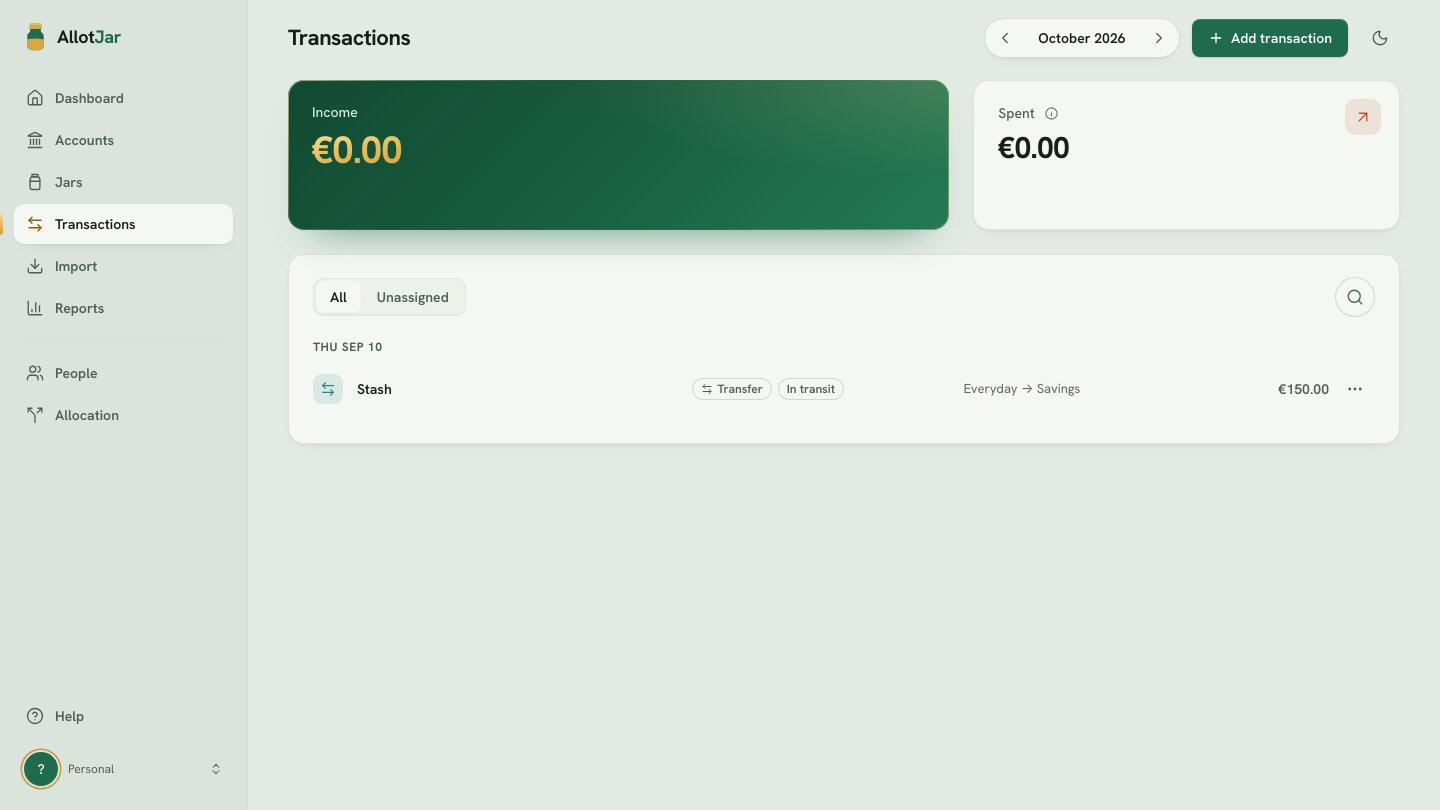
Test: TransactionsPage jar prompts › asks how a confirmed receipt into a jar-backed account is divided and posts jarAllocations
This screenshot has width=1440, height=810.
Click the button named "Stash: more actions". click: (1355, 389)
box: left=1335, top=369, right=1375, bottom=409
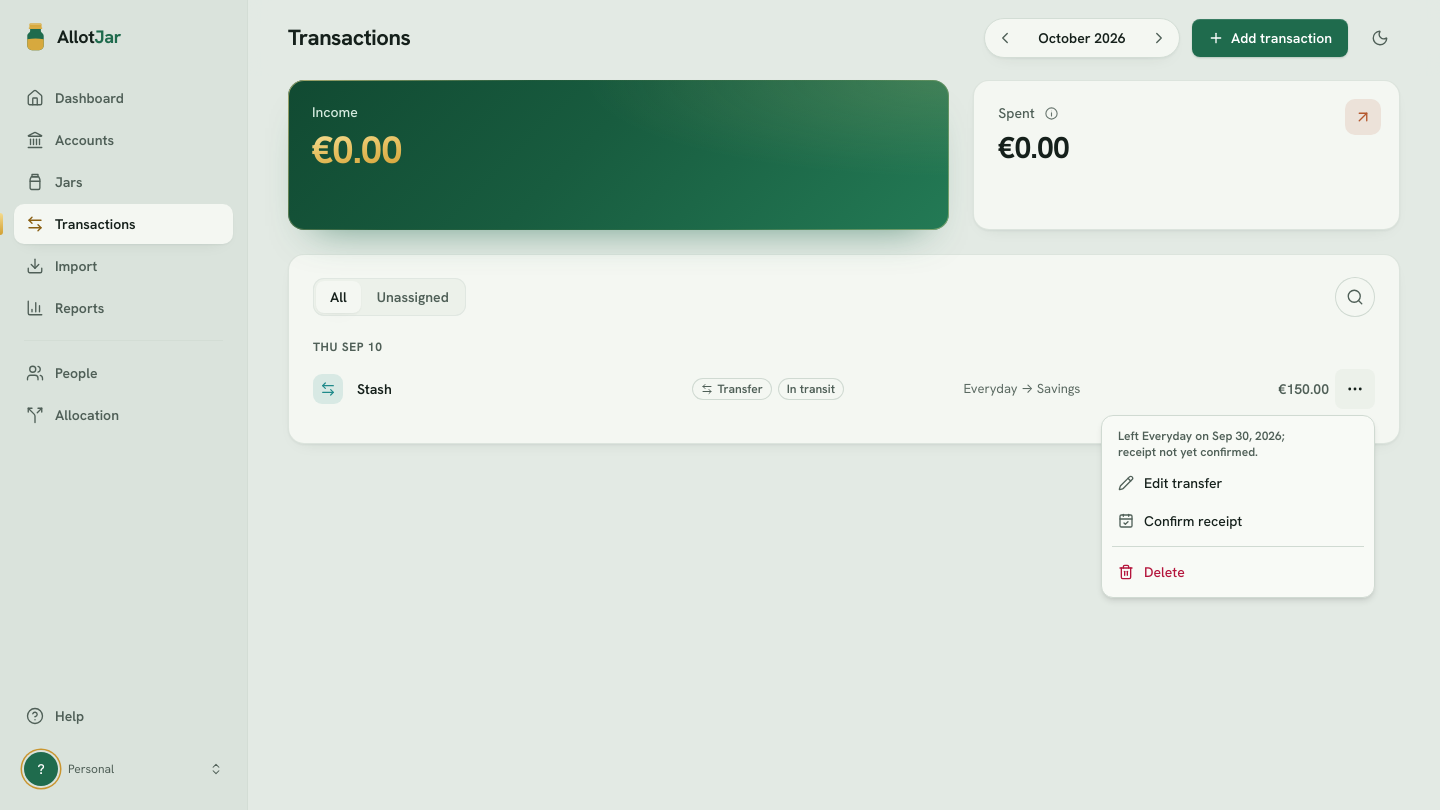
Click the menu item with aria-label "Confirm receipt: Stash". click: (1180, 521)
box: left=1118, top=512, right=1242, bottom=530
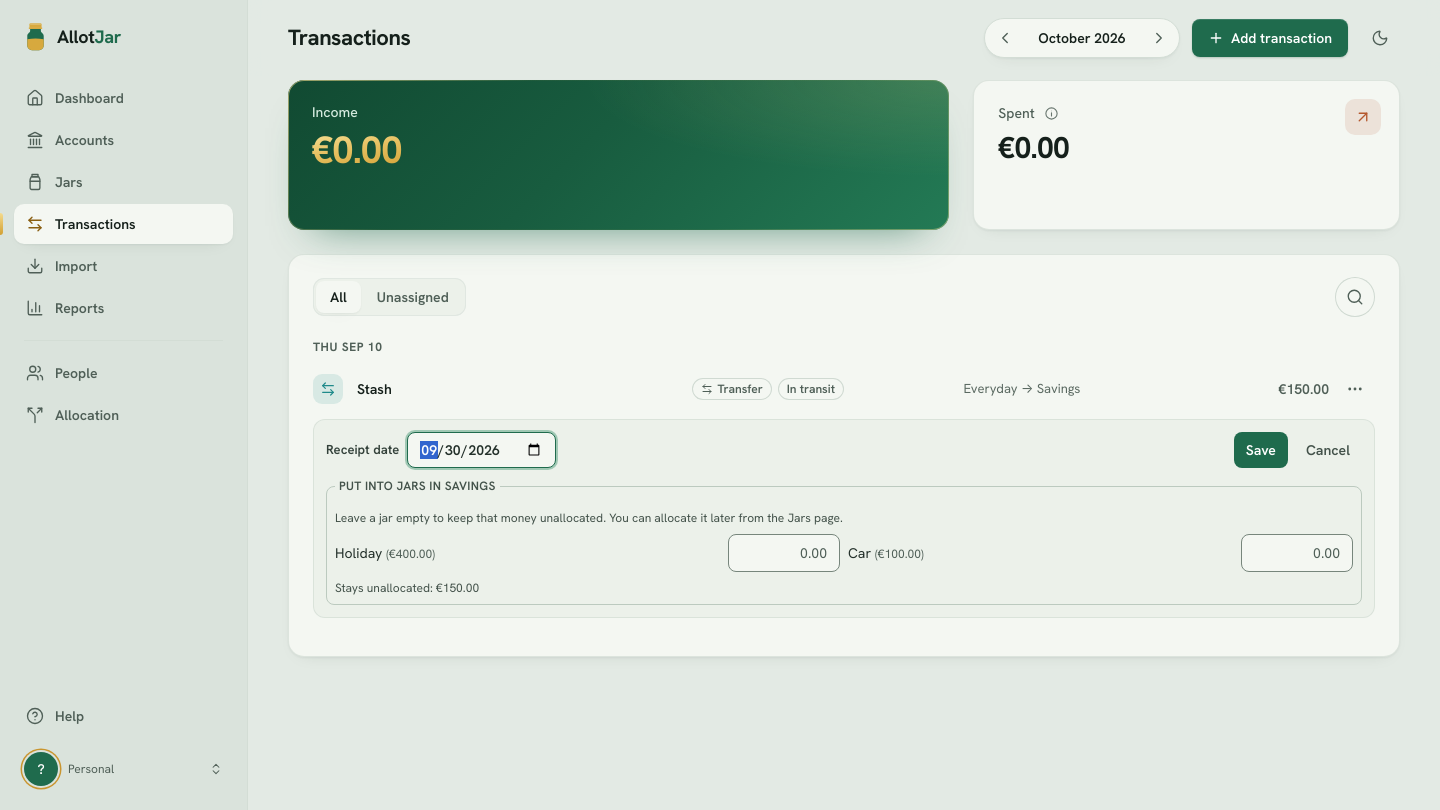
Expected: the element with test id "receipt-t-in-jar-allocation" is shown, left=326, top=478, right=1362, bottom=605
Type "100" into the field named "Amount for Holiday". click: (784, 553)
box: left=728, top=534, right=840, bottom=572
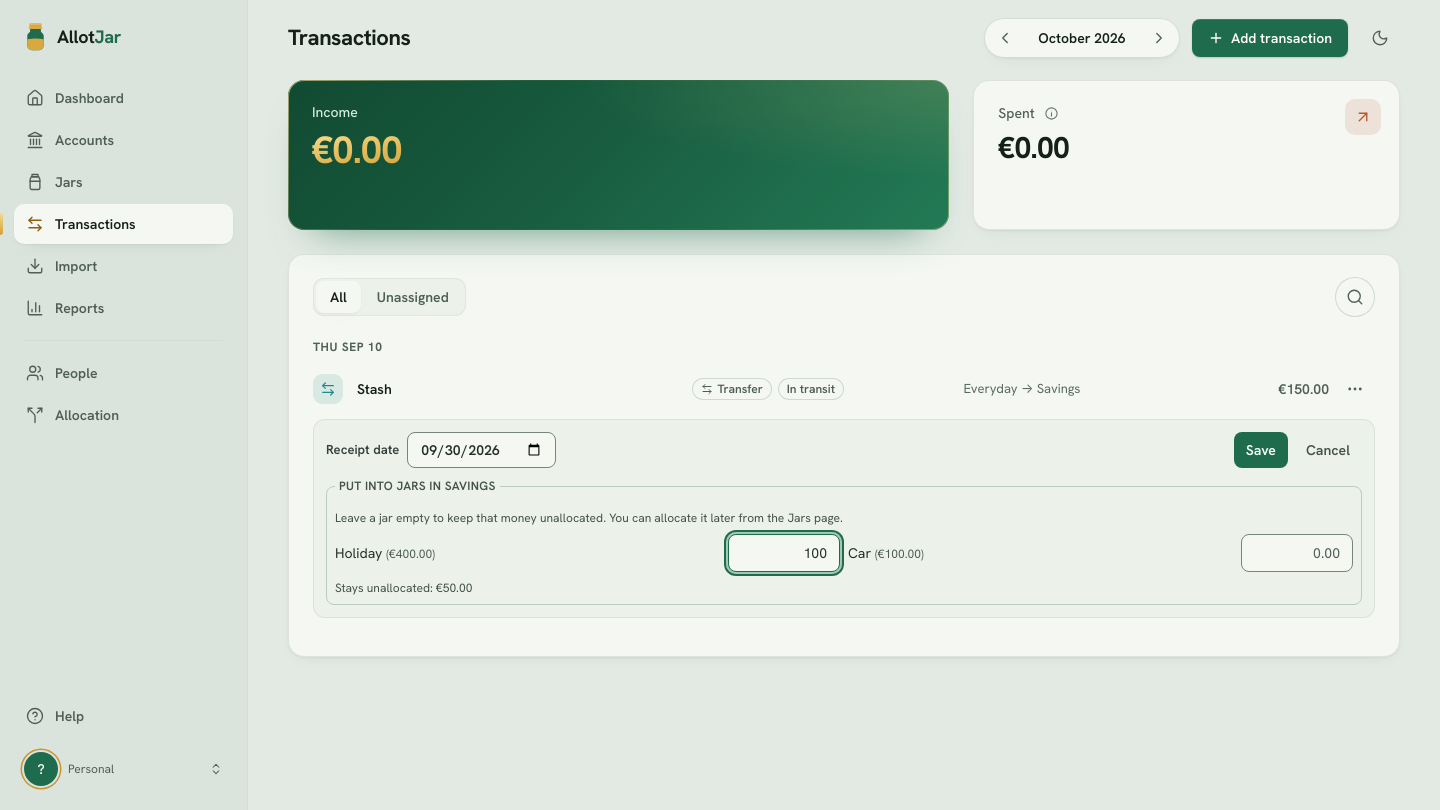
Click the button with aria-label "Save transfer leg". click: (1261, 450)
box: left=1234, top=432, right=1288, bottom=468
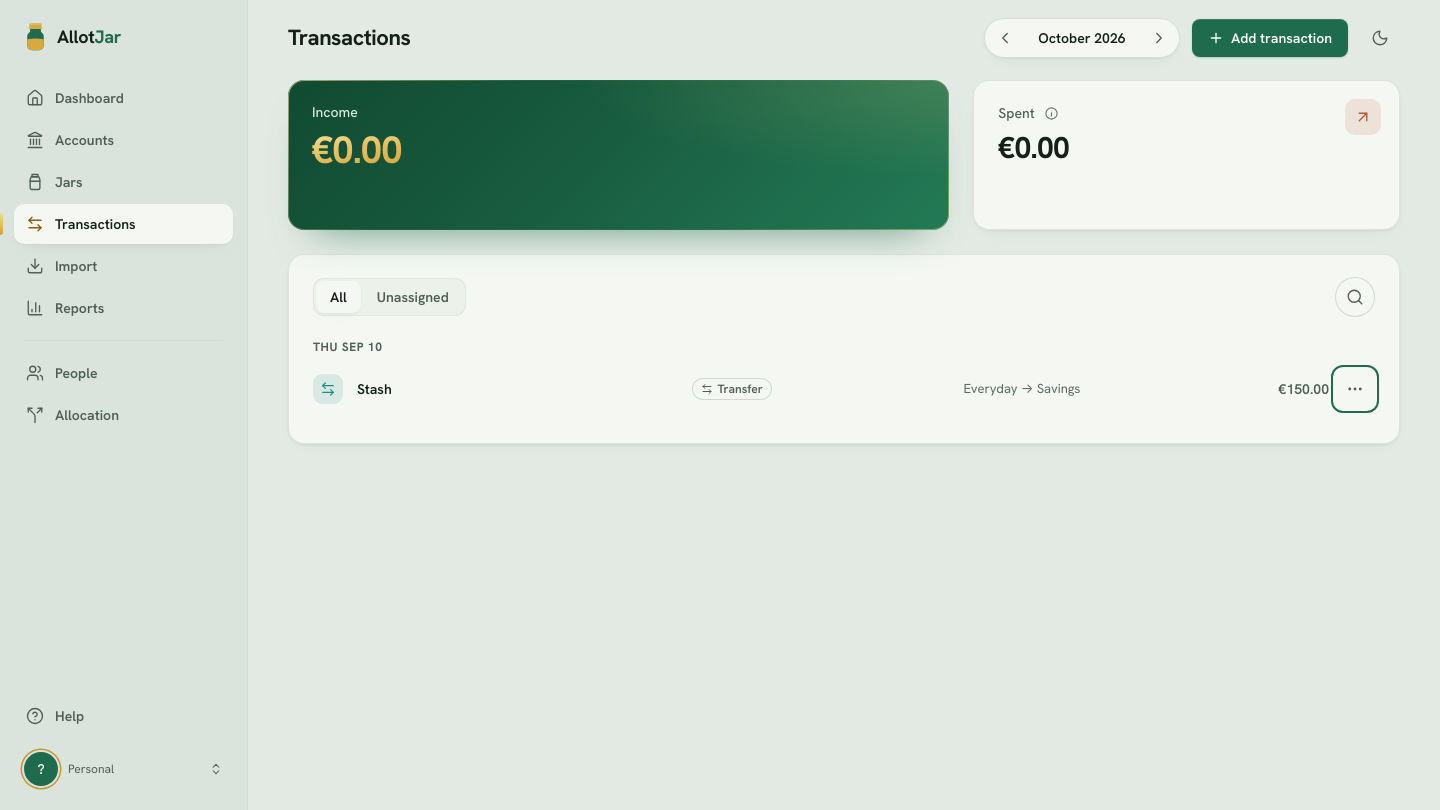
Expected: the text "In transit" is gone
